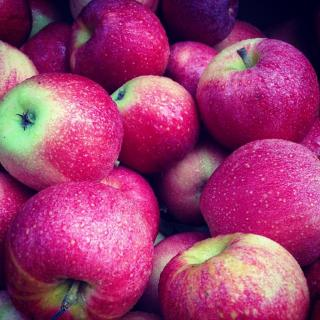Apple: (0, 0, 319, 319), (2, 180, 154, 319), (0, 72, 125, 188)
